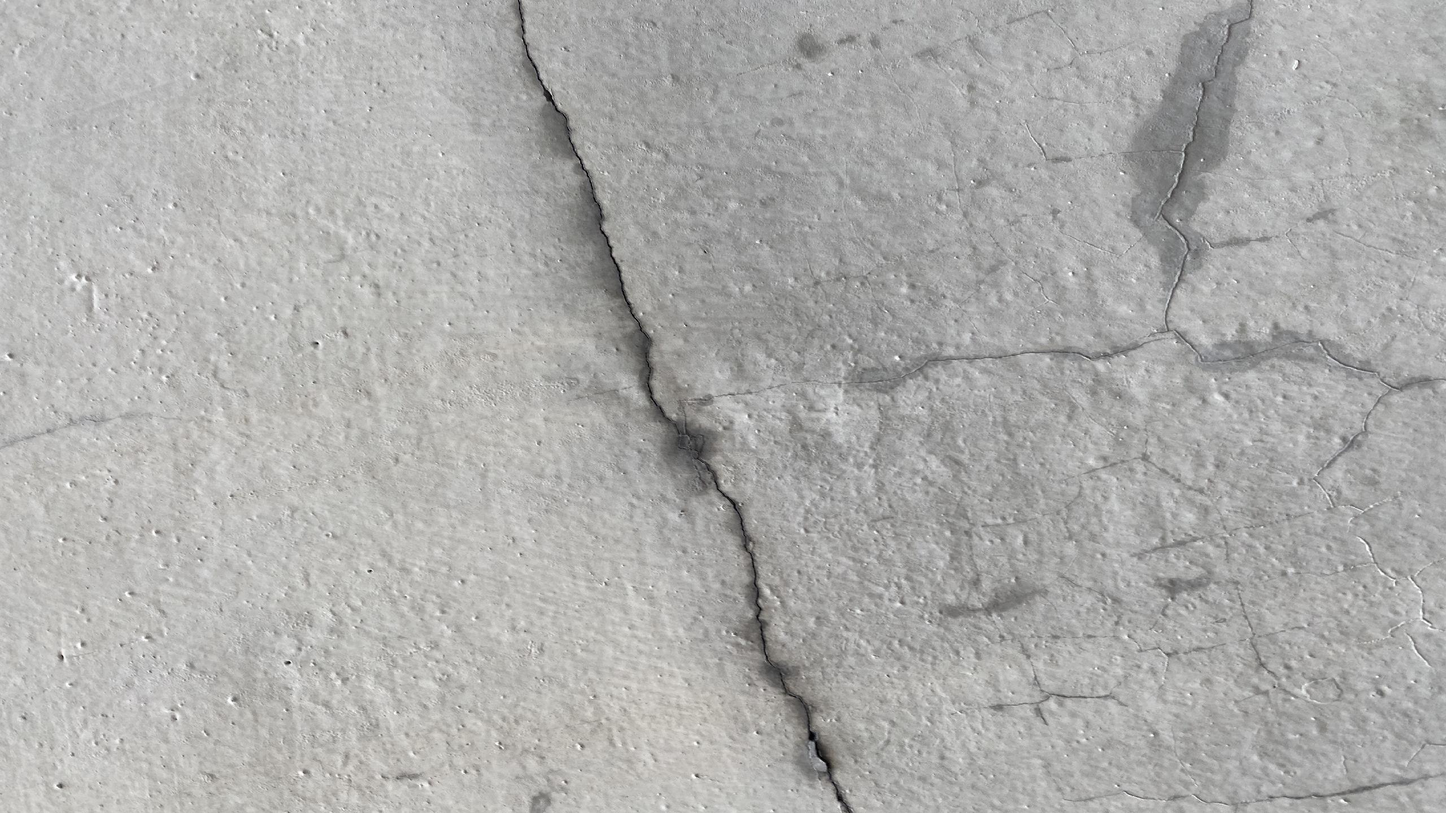crack: (518, 1, 851, 812)
